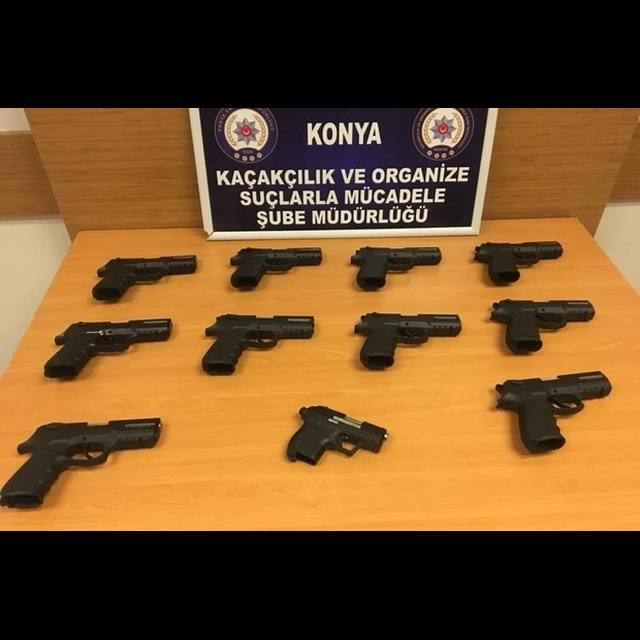SILAH: (3, 414, 164, 508), (491, 370, 612, 456), (41, 318, 174, 381), (286, 399, 392, 473), (201, 314, 315, 375), (354, 310, 463, 370), (489, 295, 597, 354), (91, 252, 198, 301), (471, 239, 564, 285), (349, 244, 443, 289), (228, 244, 322, 289)
